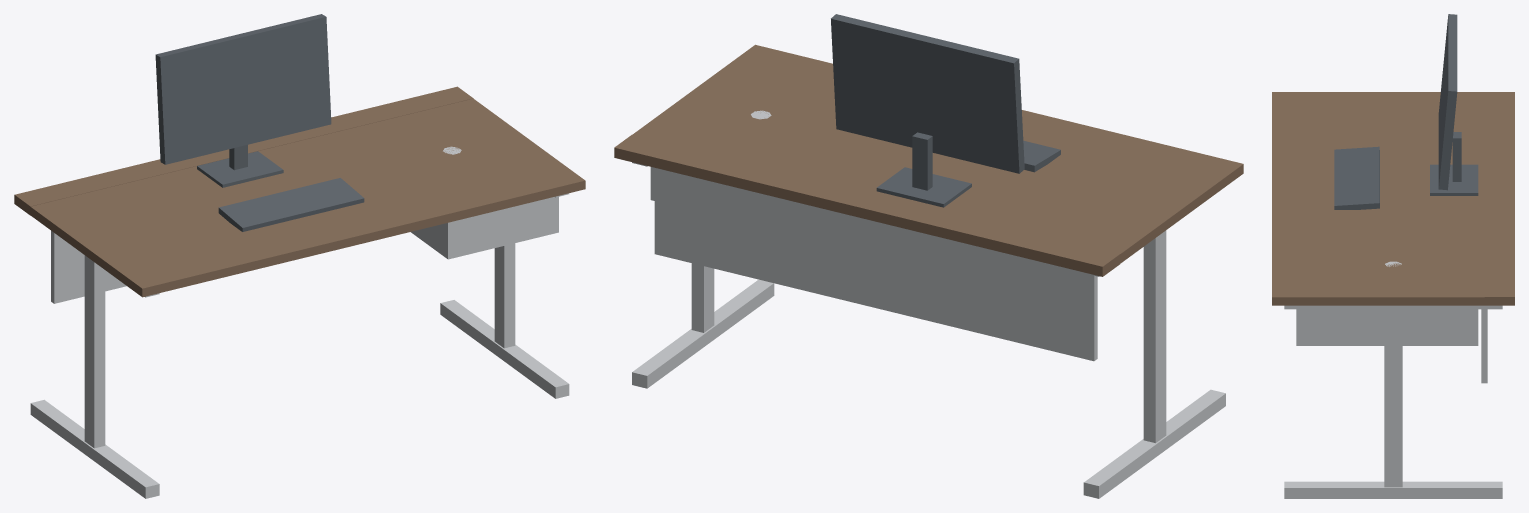
File: office_desk.glb
3 views of the same model, side by side, from view 1: azimuth 30°, elevation 25°; view 2: azimuth 150°, elevation 25°; view 3: azimuth 270°, elevation 25° (orthographic). The views are drawn at different scales.
Visible parts, largest first — view 1: office_desk, monitor, frame; view 2: office_desk, frame, monitor; view 3: office_desk, frame, monitor.
Boxes of the visible parts, box(x1,y1,x2,y2) form: office_desk: box(14, 86, 585, 297); monitor: box(155, 14, 364, 231); frame: box(30, 146, 569, 498); office_desk: box(614, 44, 1243, 276); frame: box(632, 110, 1225, 498); monitor: box(831, 14, 1060, 207); office_desk: box(1272, 92, 1514, 305); frame: box(1284, 261, 1502, 498); monitor: box(1334, 14, 1478, 209).
Bounding box in the file's own units: 1.6 × 1.22 × 0.8.
